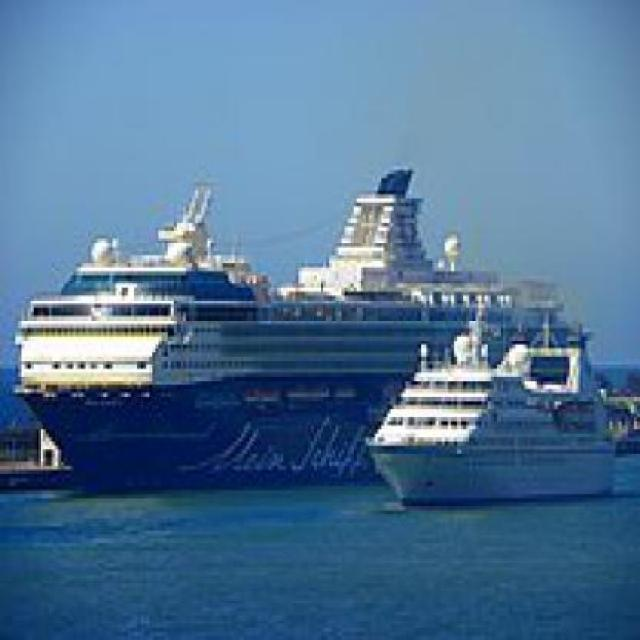cruise: (13, 155, 593, 499), (361, 317, 632, 519)
